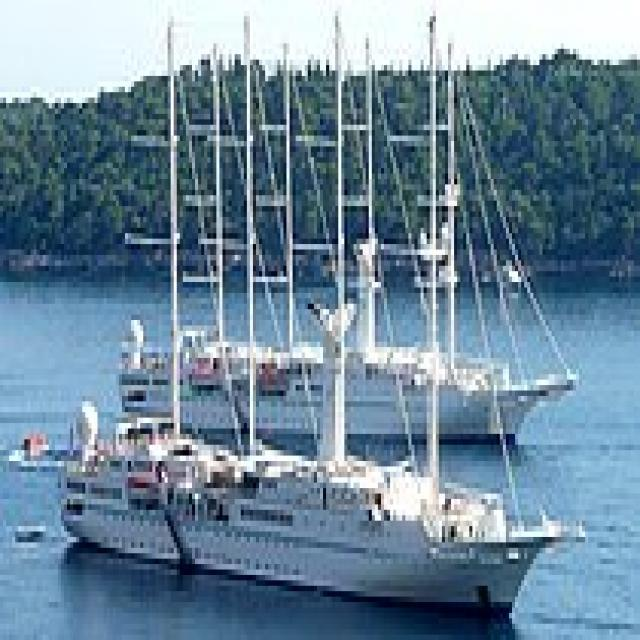Ship: (50, 381, 599, 636)
